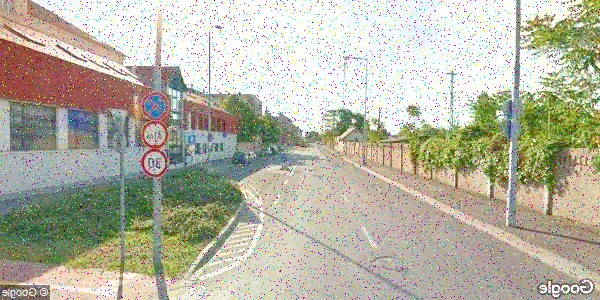b_speed_limit: (140, 149, 169, 178)
e_no_stop_park: (140, 90, 170, 121)
f_others: (141, 120, 169, 150)
